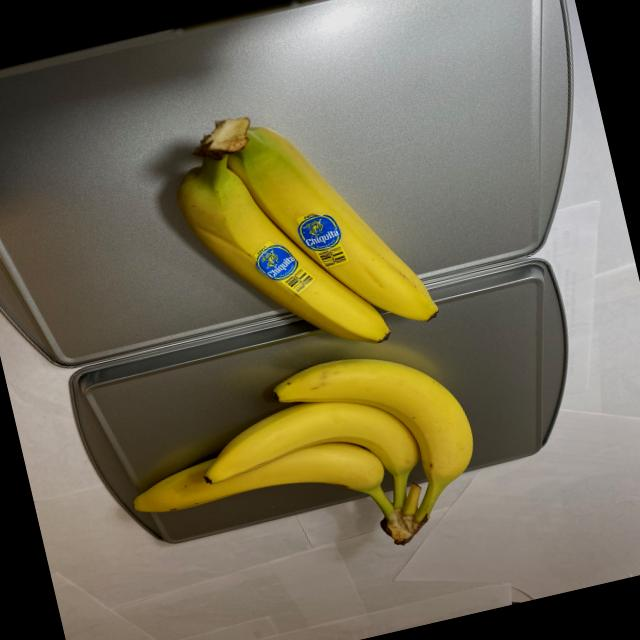banana: (109, 333, 498, 602), (157, 84, 447, 382)
